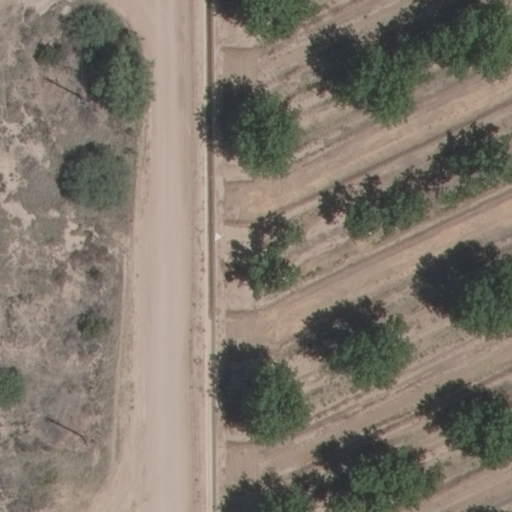DT: (70, 87, 105, 118), (75, 425, 107, 453)
